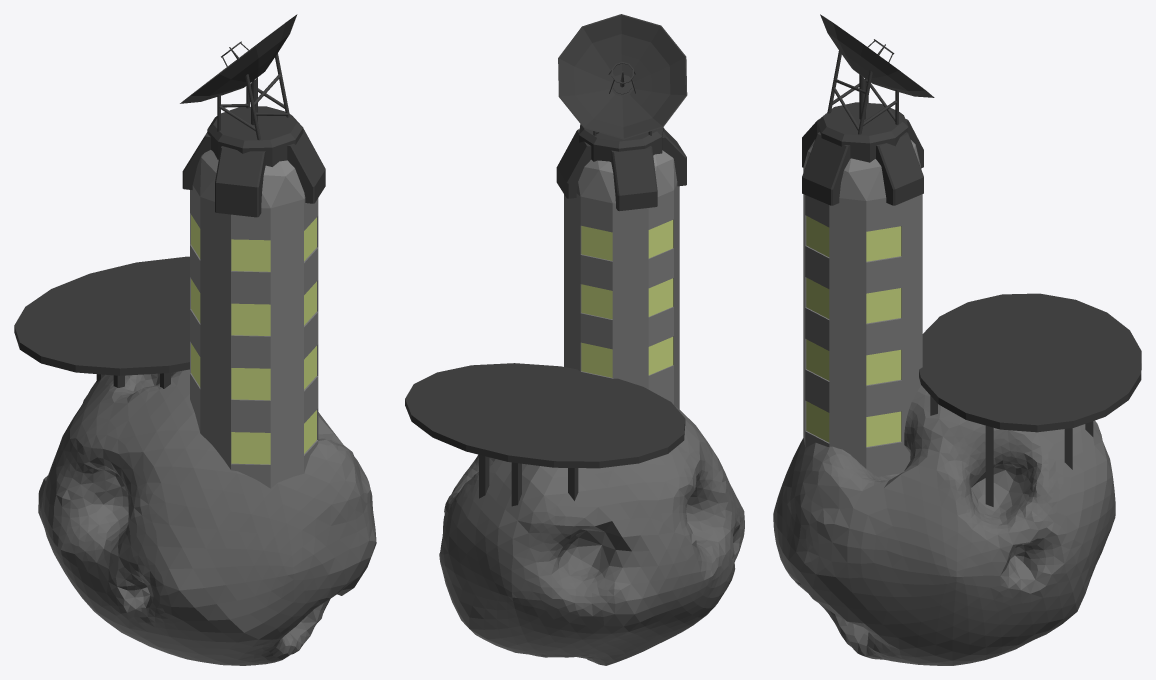
File: Shop.fbx
The picture shows the model from 3 angles, left to right: view 1: azimuth 30°, elevation 25°; view 2: azimuth 150°, elevation 25°; view 3: azimuth 270°, elevation 25°; orthographic projection. The views are drawn at different scales.
Visible parts, largest first — view 1: Shop; view 2: Shop; view 3: Shop.
Boxes of the visible parts, box(x1,y1,x2,y2) form: Shop: box(14, 14, 376, 665); Shop: box(405, 14, 744, 665); Shop: box(773, 14, 1141, 665).
Size of the model in its own units: 4.88 by 5.68 by 10.74.
